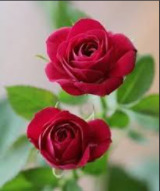RedRose: (39, 14, 141, 97), (27, 105, 122, 172)
